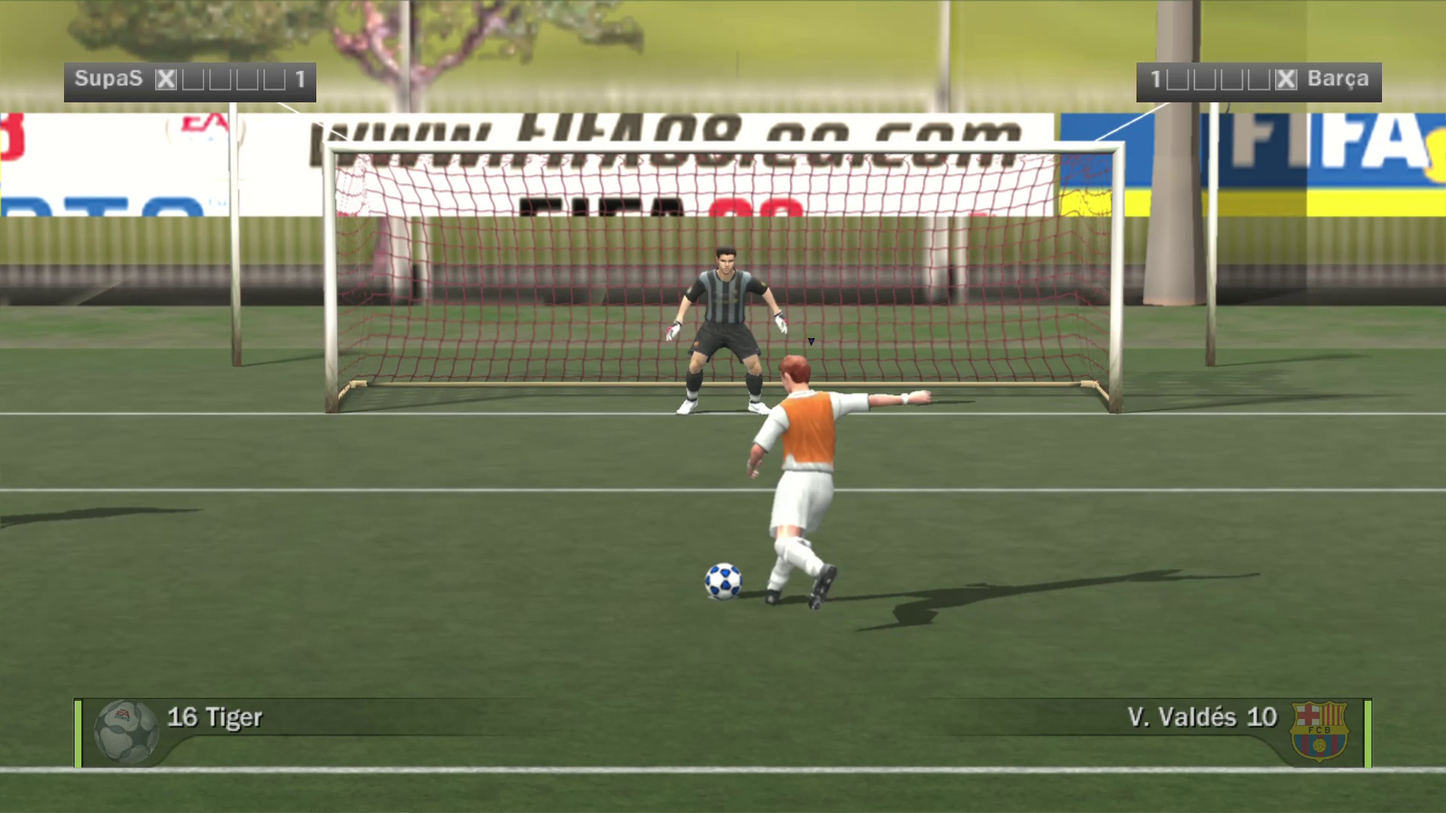ball: (686, 539, 725, 581)
goal_post: (0, 27, 722, 284)
keeper: (598, 162, 731, 329)
kicker: (655, 230, 840, 481)
